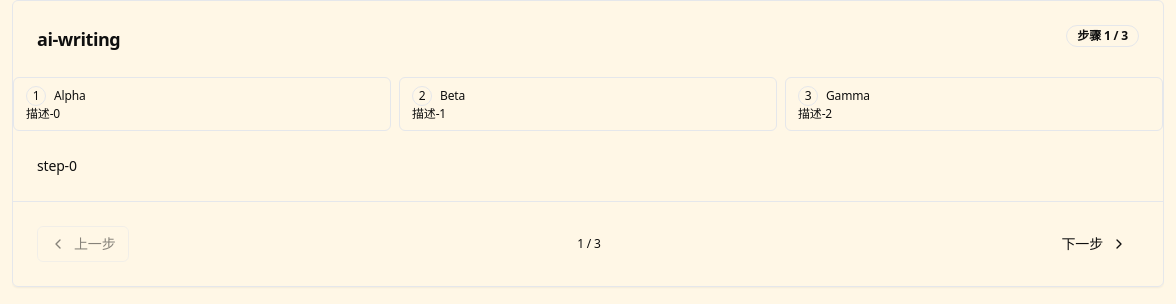
it: Wizard — 步骤导航 › 点击 Stepper 步骤按钮直接跳转
The width and height of the screenshot is (1176, 304).
Stepper 按钮的 name 由图标 + 序号 + 标题构成，用精确标题匹配
Click the button "3 Gamma 描述-2".
click(848, 96)  # box [785,77,1163,131]
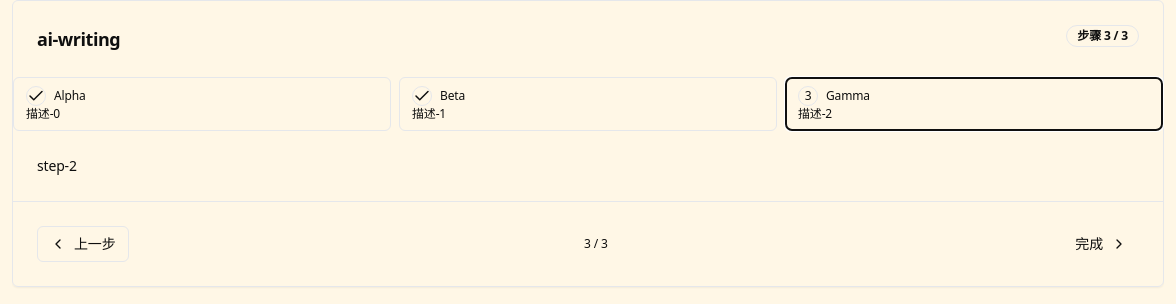
Expected: the text "step-2" is shown, [37,156,77,175]
Expected: the text "步骤 3 / 3" is shown, [1066,25,1139,47]
